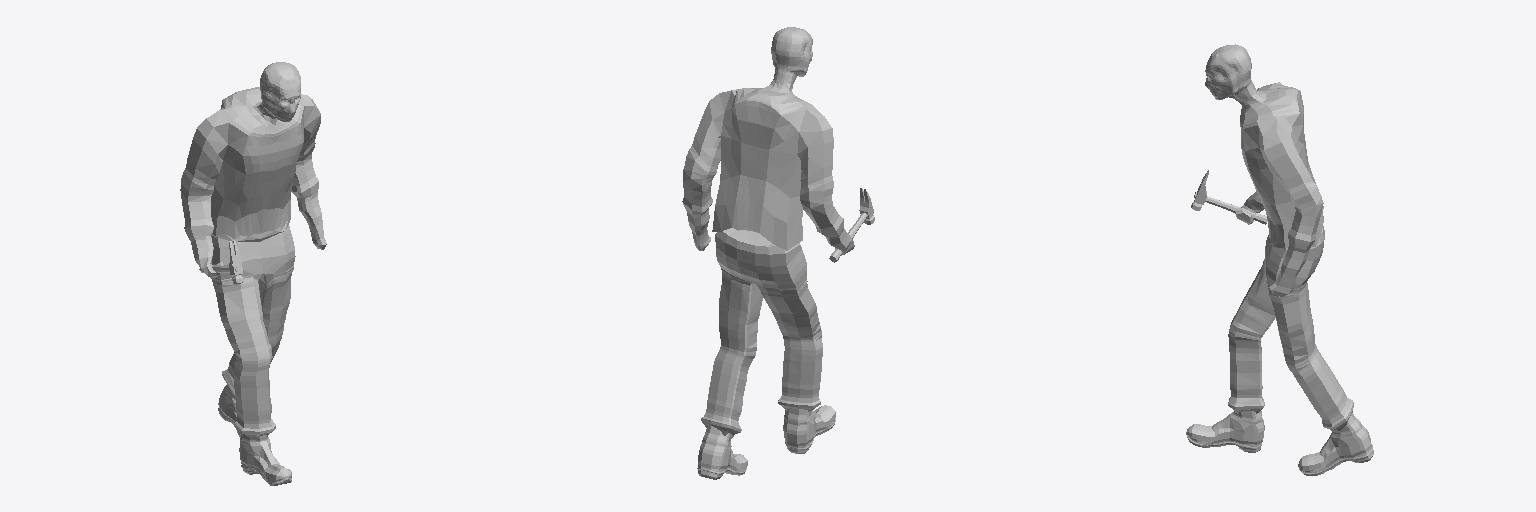
The model's file is Murderer_Step222.obj.
3 renders of one model, left to right at view 1: azimuth 30°, elevation 25°; view 2: azimuth 150°, elevation 25°; view 3: azimuth 270°, elevation 25°, orthographic.
Parts seen in each view (by area): view 1: Körper, Beine, Stiefel, Hammer; view 2: Körper, Beine, Stiefel, Hammer; view 3: Körper, Beine, Stiefel, Hammer.
Boxes of the visible parts, x1,y1,x2,y2 form: Körper: [180, 62, 326, 277]; Beine: [211, 225, 295, 437]; Stiefel: [218, 385, 291, 485]; Hammer: [199, 240, 243, 283]; Körper: [682, 27, 854, 255]; Beine: [701, 228, 822, 437]; Stiefel: [697, 405, 835, 479]; Hammer: [829, 188, 874, 262]; Körper: [1205, 44, 1323, 296]; Beine: [1228, 226, 1353, 430]; Stiefel: [1186, 411, 1373, 475]; Hammer: [1191, 170, 1267, 224].
Bounding box in the file's own units: 0.3418 × 0.9627 × 0.3921.